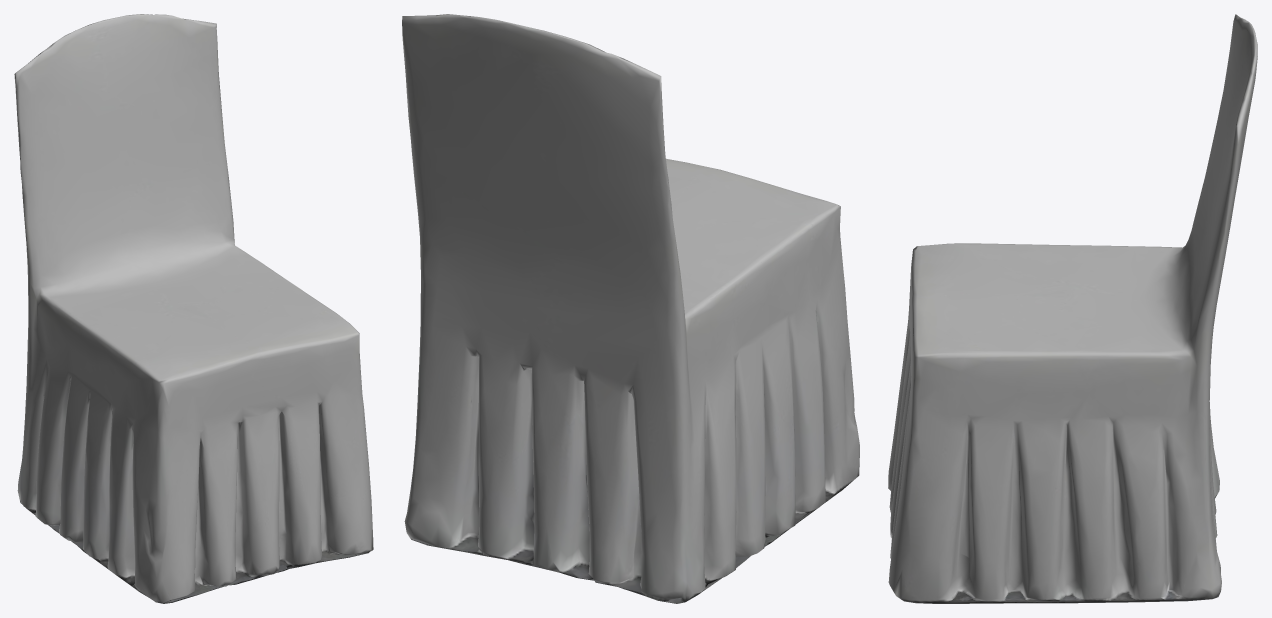
Rendered from kursi_putih.glb.
3 renders of one model, left to right at view 1: azimuth 30°, elevation 25°; view 2: azimuth 150°, elevation 25°; view 3: azimuth 270°, elevation 25°, orthographic. The views are drawn at different scales.
Parts seen in each view (by area): view 1: tripo_node_46798290-bdfc-4412-8845-5d080c4cdf5c; view 2: tripo_node_46798290-bdfc-4412-8845-5d080c4cdf5c; view 3: tripo_node_46798290-bdfc-4412-8845-5d080c4cdf5c.
Part boxes in pixels (box(x1,y1,x2,y2)): tripo_node_46798290-bdfc-4412-8845-5d080c4cdf5c: box(14, 14, 373, 603); tripo_node_46798290-bdfc-4412-8845-5d080c4cdf5c: box(402, 14, 859, 603); tripo_node_46798290-bdfc-4412-8845-5d080c4cdf5c: box(888, 14, 1257, 603).
Size of the model in its own units: 0.548 by 1 by 0.6667.
Materials: 1 (1 with a texture image).
